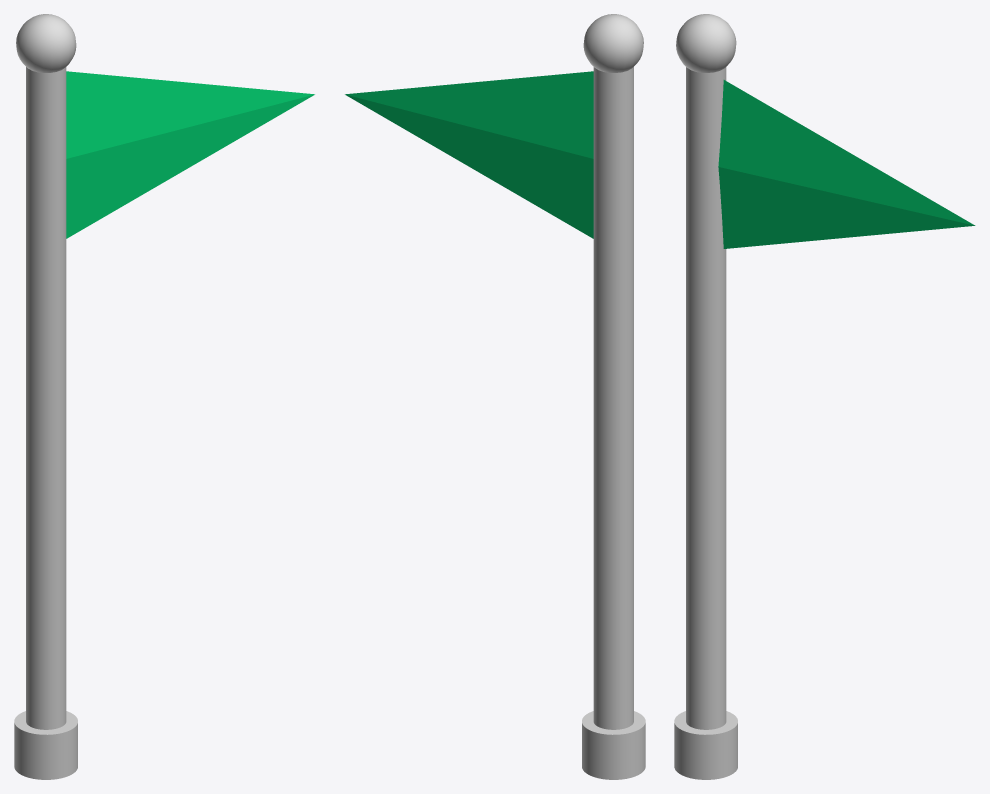
Rendered from flag.fbx.
3 renders of one model, left to right at view 1: azimuth 30°, elevation 25°; view 2: azimuth 150°, elevation 25°; view 3: azimuth 330°, elevation 25°, orthographic.
Visible parts, largest first — view 1: pCylinder1, pPyramid1, pCylinder2, pSphere2; view 2: pCylinder1, pPyramid1, pCylinder2, pSphere2; view 3: pCylinder1, pPyramid1, pCylinder2, pSphere2.
Boxes of the visible parts, x1=… form: pCylinder1: x1=26, y1=67, x2=66, y2=729; pPyramid1: x1=66, y1=71, x2=314, y2=238; pCylinder2: x1=14, y1=711, x2=77, y2=779; pSphere2: x1=16, y1=14, x2=76, y2=72; pCylinder1: x1=593, y1=67, x2=633, y2=729; pPyramid1: x1=345, y1=71, x2=593, y2=238; pCylinder2: x1=582, y1=711, x2=645, y2=779; pSphere2: x1=583, y1=14, x2=643, y2=72; pCylinder1: x1=686, y1=67, x2=726, y2=729; pPyramid1: x1=718, y1=80, x2=975, y2=248; pCylinder2: x1=674, y1=711, x2=737, y2=779; pSphere2: x1=676, y1=14, x2=736, y2=72.
Size of the model in its own units: 2.62 by 6.32 by 0.488.
